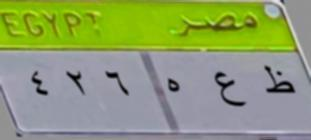2: (62, 66, 90, 96)
4: (30, 66, 50, 100)
6: (103, 65, 131, 108)
Thaa: (255, 64, 296, 108)
ain: (213, 67, 246, 116)
haa: (165, 72, 182, 104)
